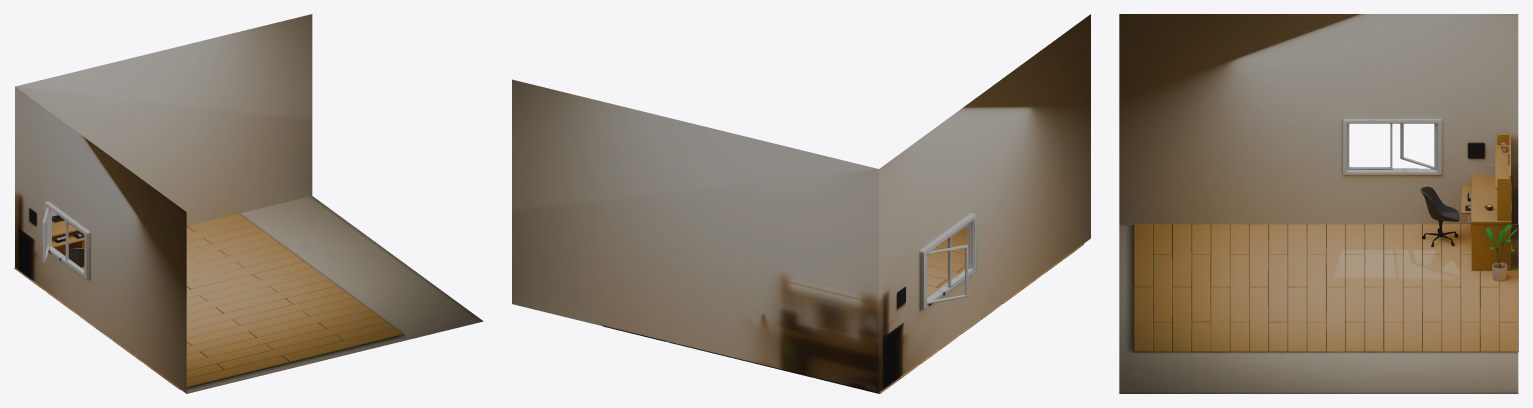
File: room.glb
3 views of the same model, side by side, from view 1: azimuth 30°, elevation 25°; view 2: azimuth 150°, elevation 25°; view 3: azimuth 270°, elevation 25° (orthographic). The views are drawn at different scales.
Visible parts, largest first — view 1: wall_Baked, Plane.002_Baked, window_Baked; view 2: wall_Baked, Plane.002_Baked, window_Baked, window l_Baked, window r_Baked; view 3: wall_Baked, Plane.002_Baked, desk base_Baked, window_Baked, desk top_Baked, chair_Baked, plant diirt_Baked, window r_Baked, window l_Baked.
Part boxes in pixels (<box>): wall_Baked: <box>15,14,483,393</box>; Plane.002_Baked: <box>14,213,403,389</box>; window_Baked: <box>44,201,90,279</box>; wall_Baked: <box>512,14,1090,392</box>; Plane.002_Baked: <box>603,226,1083,393</box>; window_Baked: <box>919,213,977,309</box>; window l_Baked: <box>947,220,974,287</box>; window r_Baked: <box>926,245,968,304</box>; wall_Baked: <box>1119,14,1518,393</box>; Plane.002_Baked: <box>1133,224,1518,352</box>; desk base_Baked: <box>1470,175,1511,270</box>; window_Baked: <box>1342,119,1441,174</box>; desk top_Baked: <box>1495,132,1510,220</box>; chair_Baked: <box>1420,186,1459,226</box>; plant diirt_Baked: <box>1485,224,1517,281</box>; window r_Baked: <box>1400,123,1437,169</box>; window l_Baked: <box>1347,123,1392,169</box>.
Bounding box in the file's own units: 10.29 × 5.6 × 9.58.
Materials: 3 (3 with a texture image).
